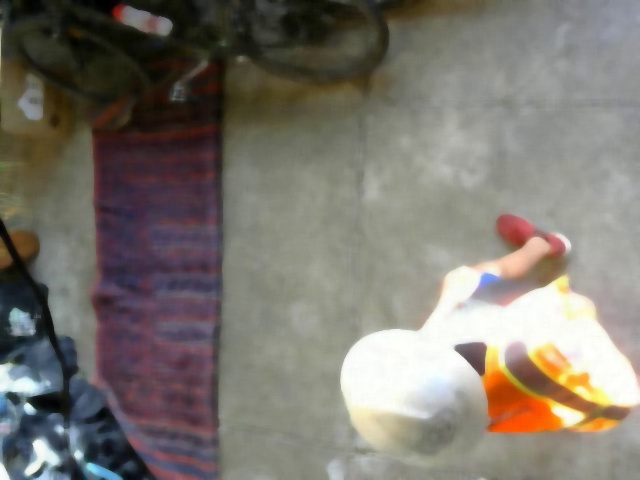eight: (417, 407, 458, 456)
